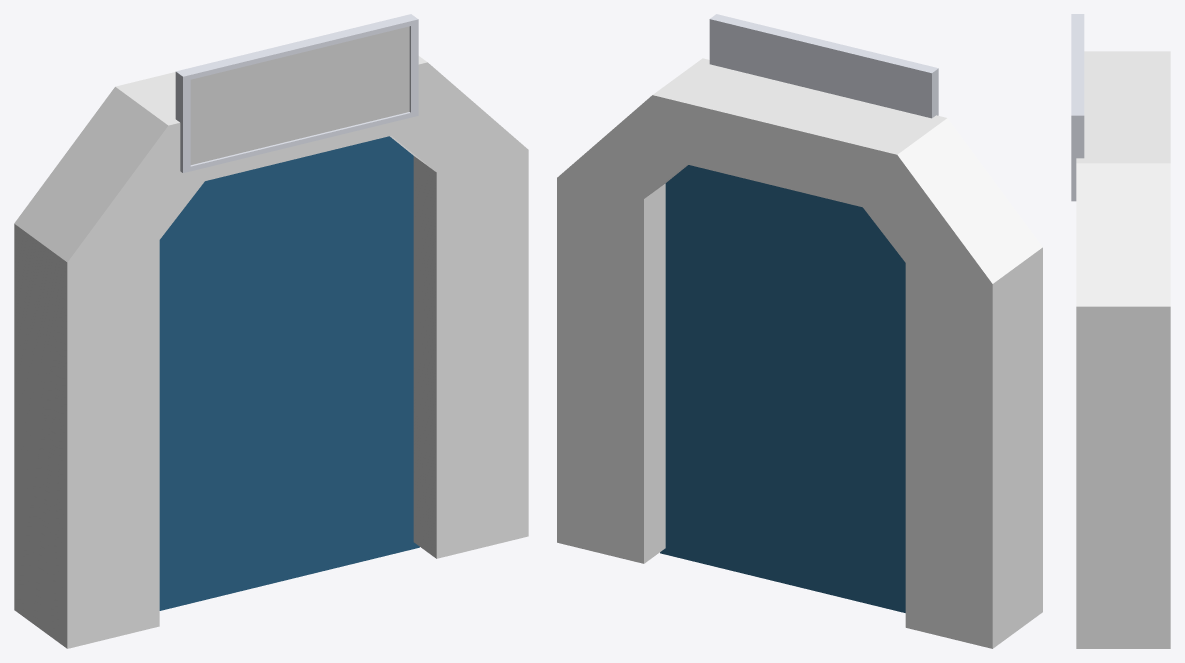
The model's file is Portal.fbx.
The picture shows the model from 3 angles, left to right: view 1: azimuth 30°, elevation 25°; view 2: azimuth 150°, elevation 25°; view 3: azimuth 270°, elevation 25°; orthographic projection. The views are drawn at different scales.
Parts seen in each view (by area): view 1: doorframe, portal_plane, Plane, doorsign_front; view 2: doorframe, portal_plane, doorsign_front; view 3: doorframe, doorsign_front.
Boxes of the visible parts, left/top/right/bottom form: doorframe: left=14, top=56, right=528, bottom=648; portal_plane: left=159, top=136, right=419, bottom=610; Plane: left=190, top=26, right=409, bottom=164; doorsign_front: left=175, top=14, right=418, bottom=173; doorframe: left=557, top=58, right=1042, bottom=648; portal_plane: left=660, top=165, right=905, bottom=612; doorsign_front: left=709, top=14, right=938, bottom=118; doorframe: left=1076, top=51, right=1170, bottom=648; doorsign_front: left=1071, top=14, right=1084, bottom=201.
Bounding box in the file's own units: 359 × 411 × 75.3.
